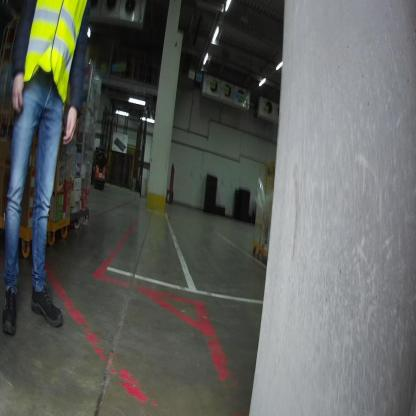pallet_truck: (90, 139, 108, 192)
